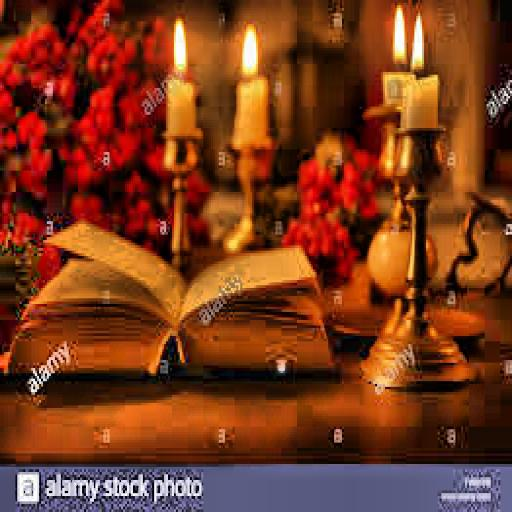fire: (234, 18, 266, 82), (403, 5, 428, 67), (382, 0, 406, 61), (166, 10, 186, 74)
